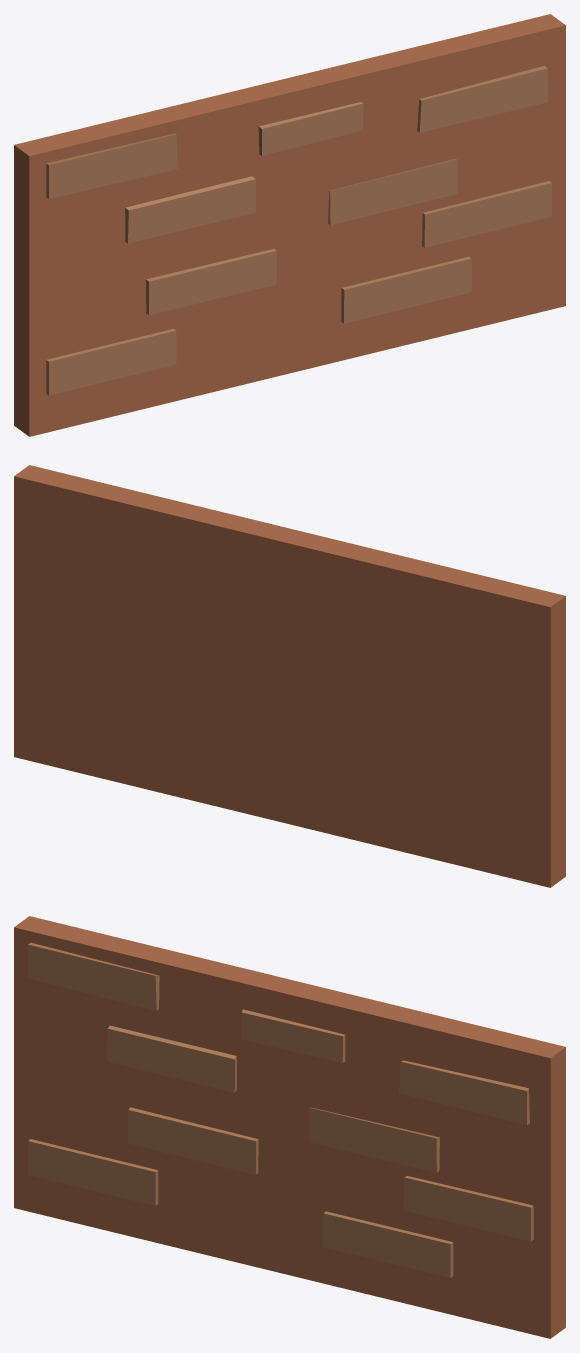
File: BrickV3HalfWall.fbx
The picture shows the model from 3 angles, top to bottom: view 1: azimuth 30°, elevation 25°; view 2: azimuth 150°, elevation 25°; view 3: azimuth 330°, elevation 25°; orthographic projection.
Parts seen in each view (by area): view 1: BrickV3HalfWall; view 2: BrickV3HalfWall; view 3: BrickV3HalfWall.
Boxes of the visible parts, x1,y1,x2,y2 form: BrickV3HalfWall: [14, 14, 565, 436]; BrickV3HalfWall: [14, 465, 565, 887]; BrickV3HalfWall: [14, 916, 565, 1338].
Bounding box in the file's own units: 200 × 100 × 11.75.
